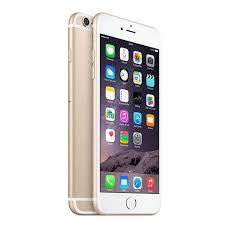iphone: (90, 13, 163, 215)
iphone6: (90, 12, 165, 219)
